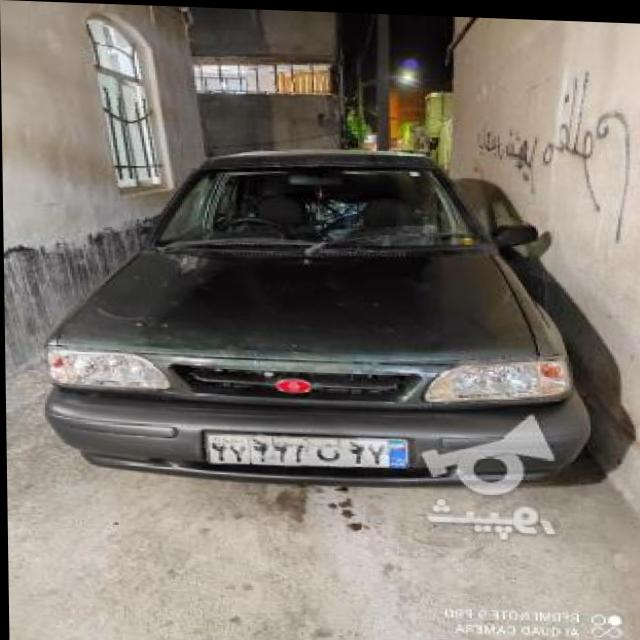licence: (204, 429, 413, 471)
